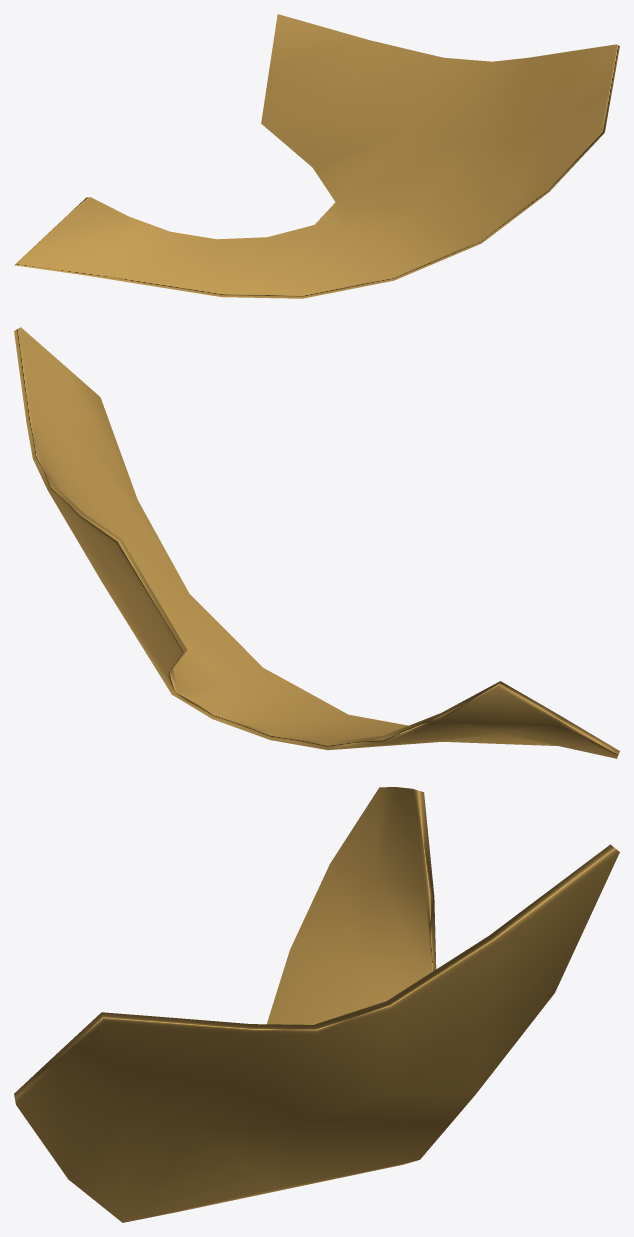
3 renders of one model, top to bottom at view 1: azimuth 30°, elevation 25°; view 2: azimuth 150°, elevation 25°; view 3: azimuth 270°, elevation 25°, orthographic. The views are drawn at different scales.
Parts seen in each view (by area): view 1: 右侧尺侧副韧带; view 2: 右侧尺侧副韧带; view 3: 右侧尺侧副韧带.
Boxes of the visible parts, x1,y1,x2,y2 form: 右侧尺侧副韧带: (14,14,619,298); 右侧尺侧副韧带: (14,327,619,758); 右侧尺侧副韧带: (14,787,619,1222).
Size of the model in its own units: 0.0685 by 0.0257 by 0.0347.
